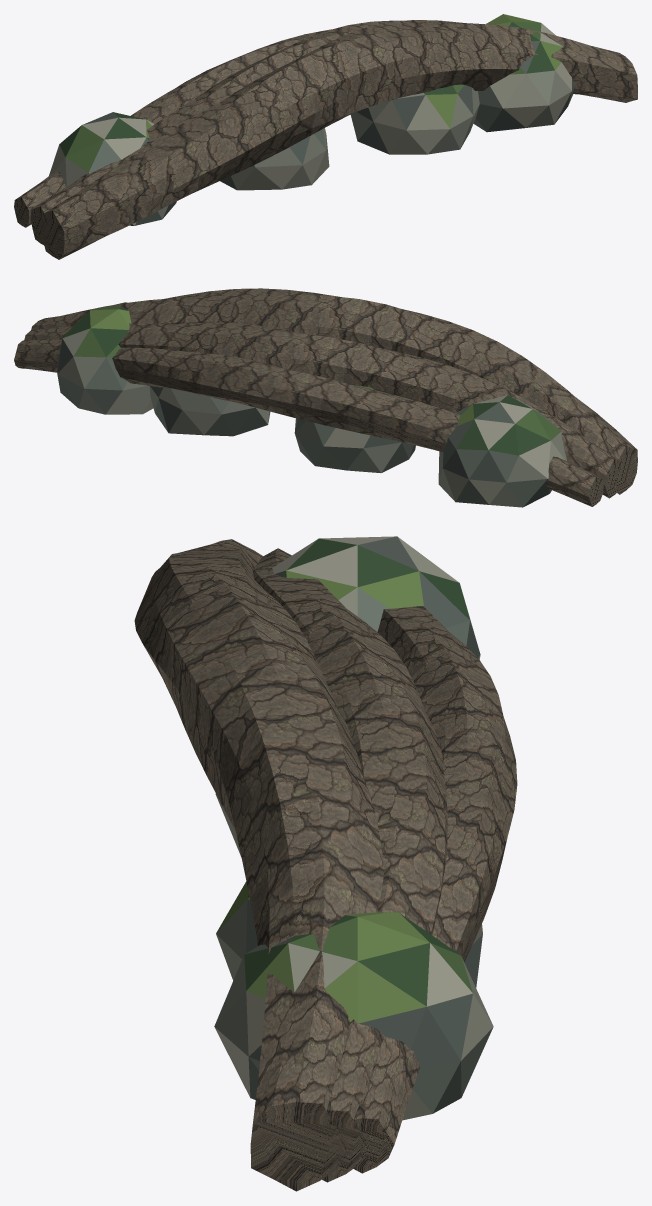
The picture shows the model from 3 angles, top to bottom: view 1: azimuth 30°, elevation 25°; view 2: azimuth 150°, elevation 25°; view 3: azimuth 270°, elevation 25°; orthographic projection. The views are drawn at different scales.
Visible parts, largest first — view 1: interwoven-root-bank · evaluated preview mesh; view 2: interwoven-root-bank · evaluated preview mesh; view 3: interwoven-root-bank · evaluated preview mesh.
Boxes of the visible parts, bbox=[...] form: interwoven-root-bank · evaluated preview mesh: bbox=[14, 14, 637, 259]; interwoven-root-bank · evaluated preview mesh: bbox=[14, 288, 637, 507]; interwoven-root-bank · evaluated preview mesh: bbox=[134, 536, 517, 1191].
Bounding box in the file's own units: 12 × 2.68 × 3.48.
8 materials, 1 textured.
